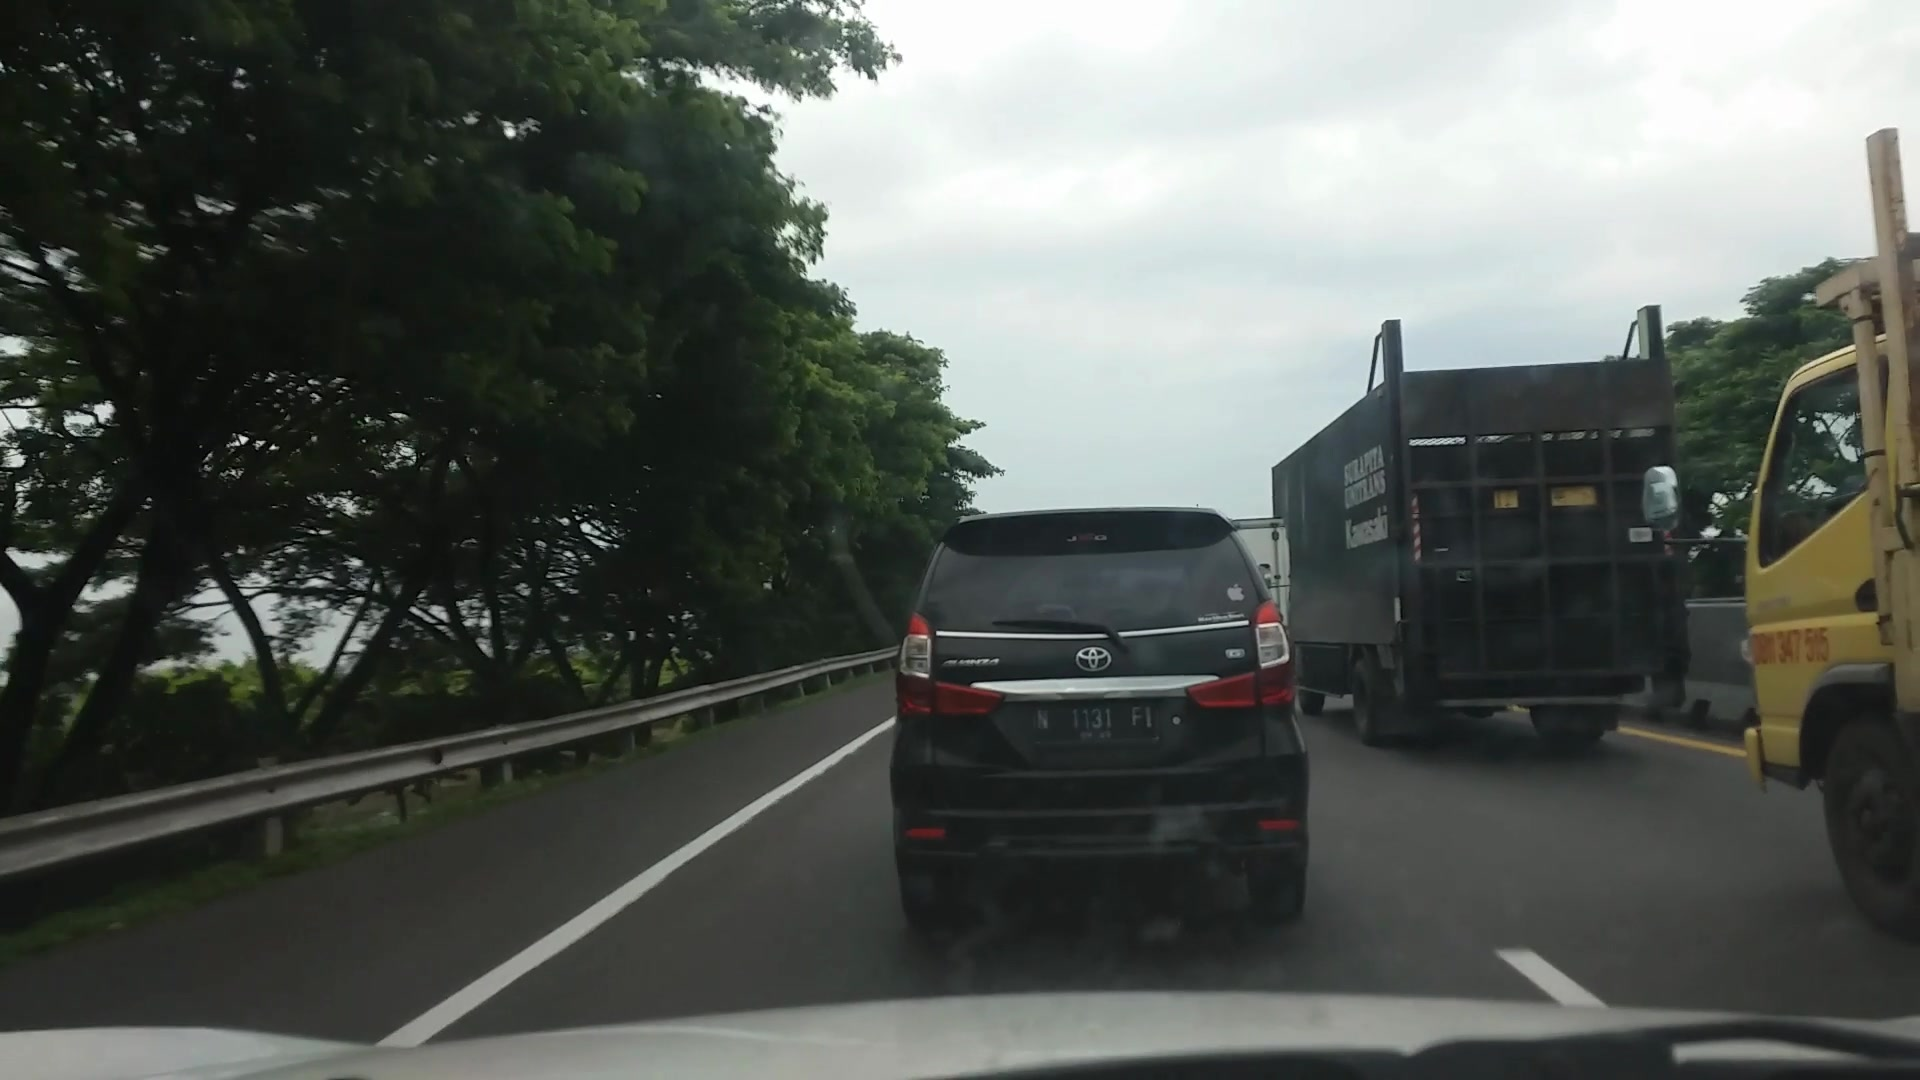plate_positive: (1034, 702, 1158, 742)
